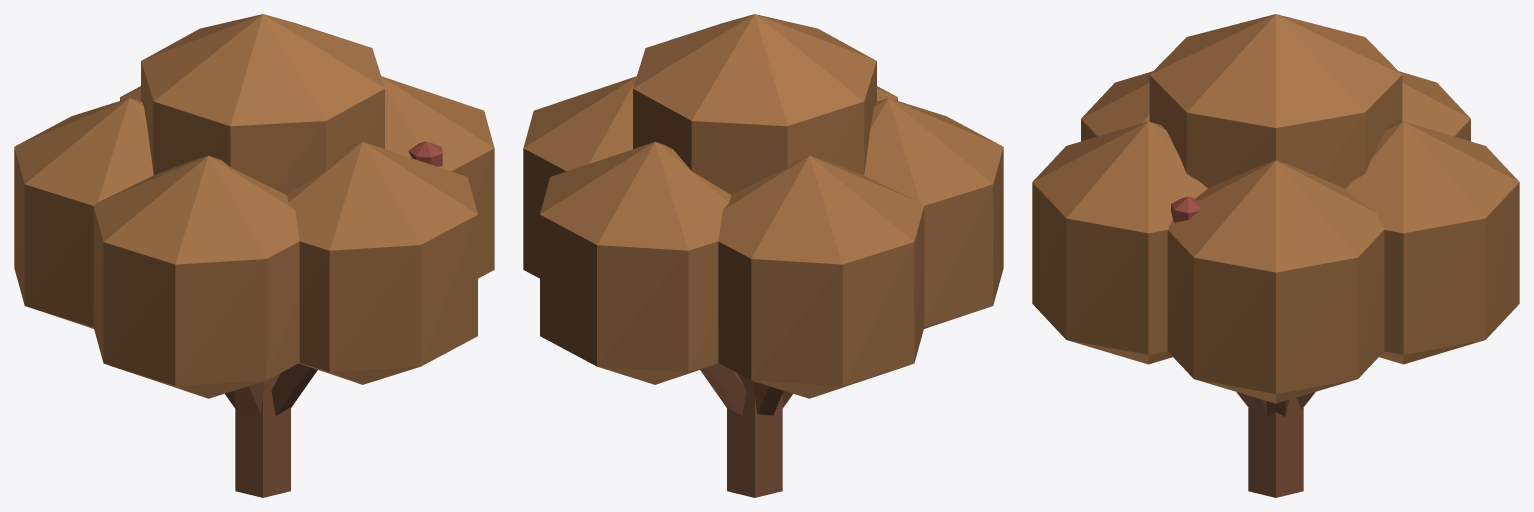
File: bush_autumn.glb
The picture shows the model from 3 angles, left to right: view 1: azimuth 30°, elevation 25°; view 2: azimuth 150°, elevation 25°; view 3: azimuth 270°, elevation 25°; orthographic projection.
Visible parts, largest first — view 1: geometry; view 2: geometry; view 3: geometry.
Boxes of the visible parts, x1,y1,x2,y2 form: geometry: [14, 14, 494, 497]; geometry: [523, 14, 1003, 497]; geometry: [1032, 14, 1519, 497].
Size of the model in its own units: 0.8318 by 0.89 by 0.8359.
